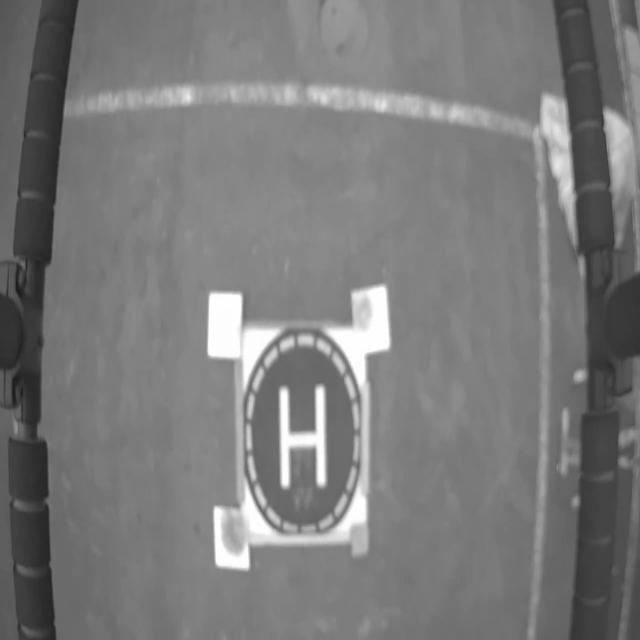Helipad: (279, 387, 328, 487)
